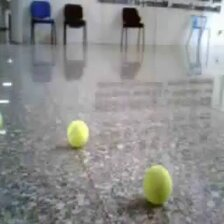tennis: (143, 166, 172, 204), (66, 119, 88, 146)
